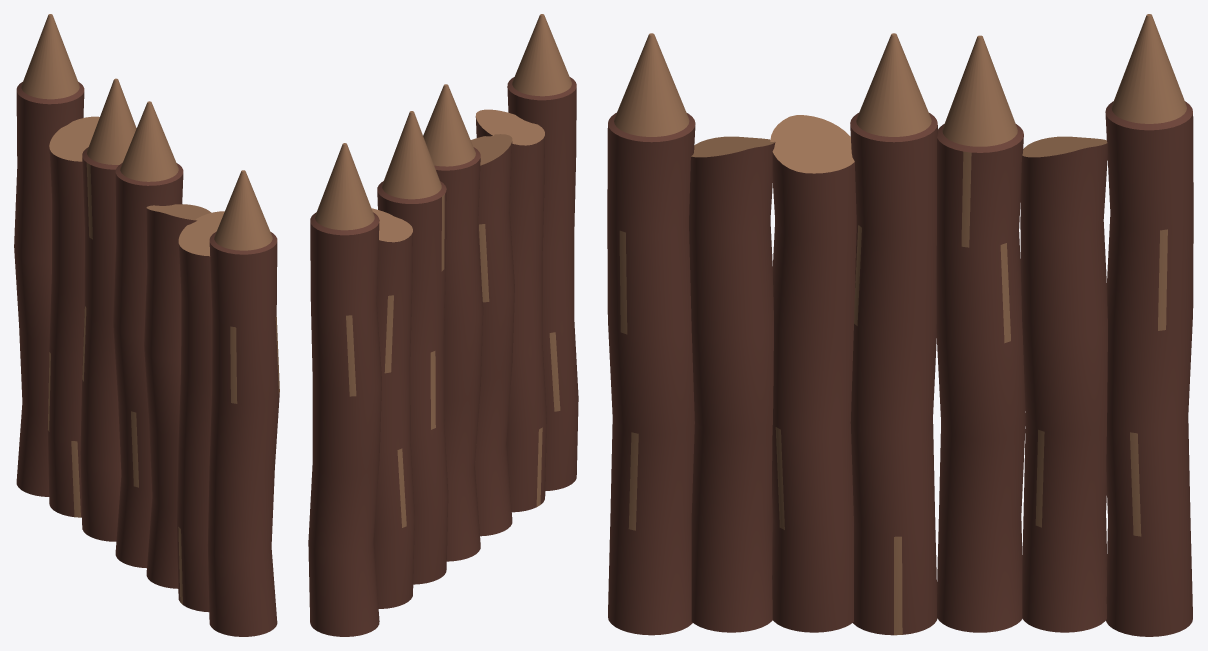
Rendered from PFE-Props-Barière2.fbx.
3 renders of one model, left to right at view 1: azimuth 30°, elevation 25°; view 2: azimuth 150°, elevation 25°; view 3: azimuth 270°, elevation 25°, orthographic. The views are drawn at different scales.
Parts seen in each view (by area): view 1: Cylinder.001; view 2: Cylinder.001; view 3: Cylinder.001.
Boxes of the visible parts, box(x1,y1,x2,y2) form: Cylinder.001: box(14, 14, 279, 636); Cylinder.001: box(308, 14, 578, 636); Cylinder.001: box(607, 14, 1193, 636).
Size of the model in its own units: 73.14 by 511 by 450.
